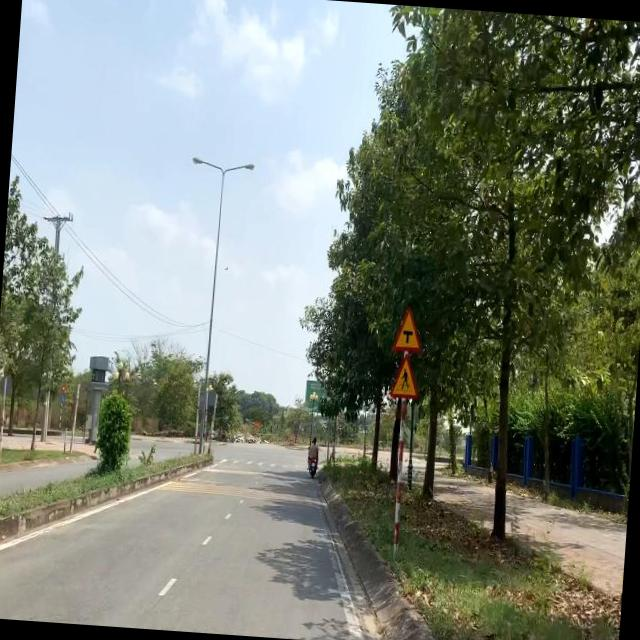W-205d: (389, 303, 424, 353)
W-224: (389, 352, 422, 402)
